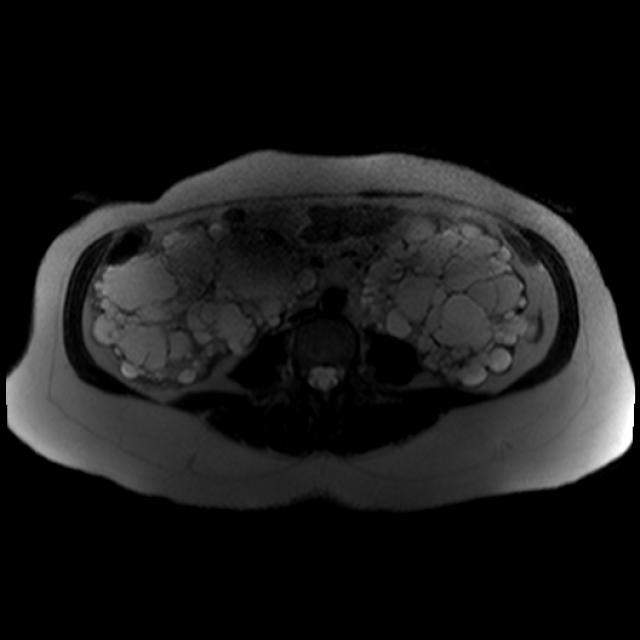sag: (91, 207, 352, 390)
sol: (357, 214, 542, 390)
